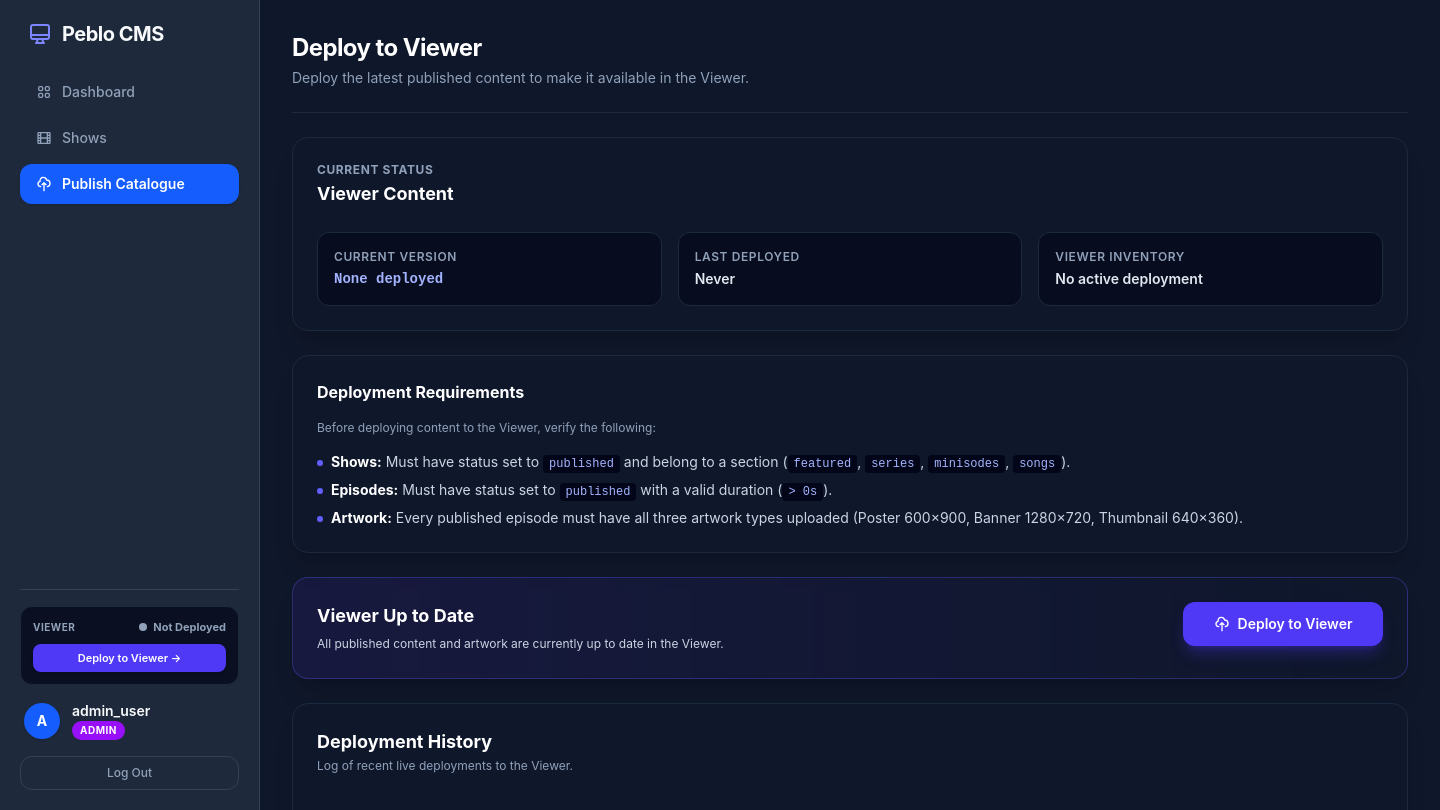
CMS Catalogue Publishing › displays readable error on server failure (500)
Click the button with test id "publish-catalog-btn" at [1283, 624], box [1183, 602, 1383, 646]
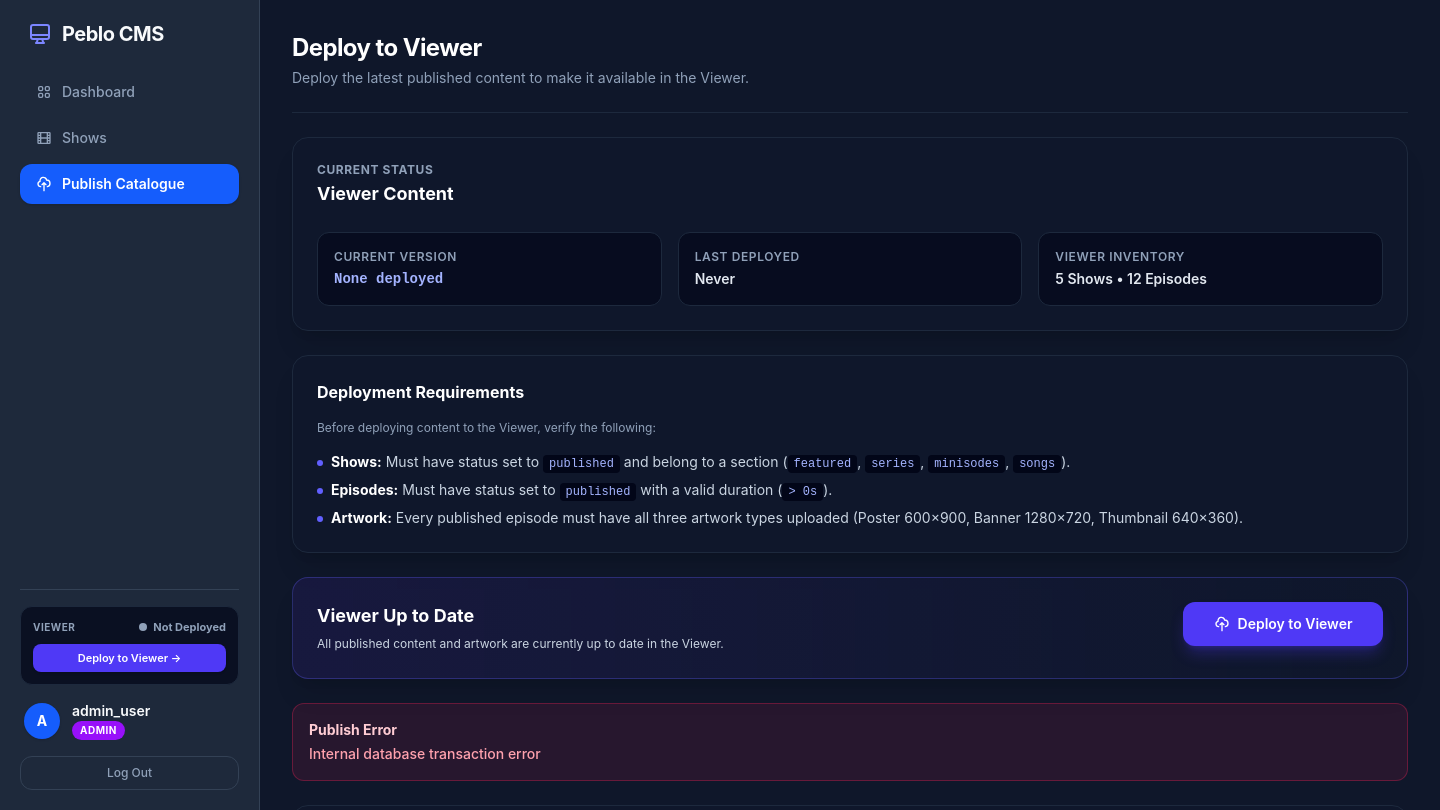
Check: the message "Publish Error Internal database transaction error" is shown, box [292, 702, 1408, 780]
Check: the text "Internal database transaction error" is shown, box [309, 744, 541, 762]
